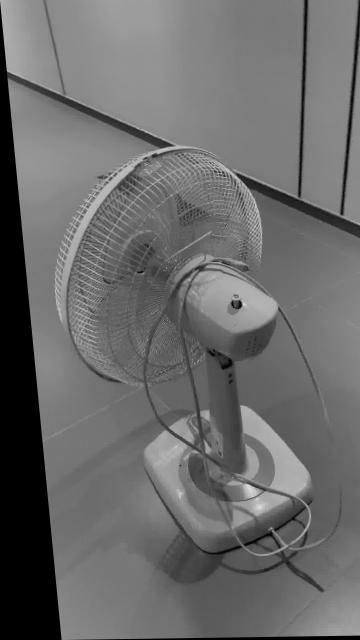Fan: (48, 146, 304, 557)
